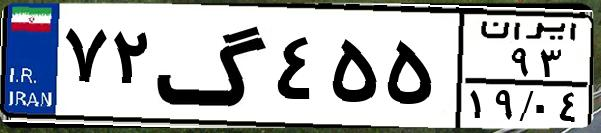0: (535, 70, 560, 125)
1: (470, 70, 495, 125)
2: (110, 28, 156, 98)
3: (537, 27, 568, 80)
4: (270, 28, 330, 110), (560, 70, 590, 125)
5: (385, 28, 445, 110), (330, 28, 385, 110)
7: (57, 26, 110, 100)
9: (508, 27, 537, 80), (495, 70, 520, 125)
گ: (156, 12, 270, 120)
